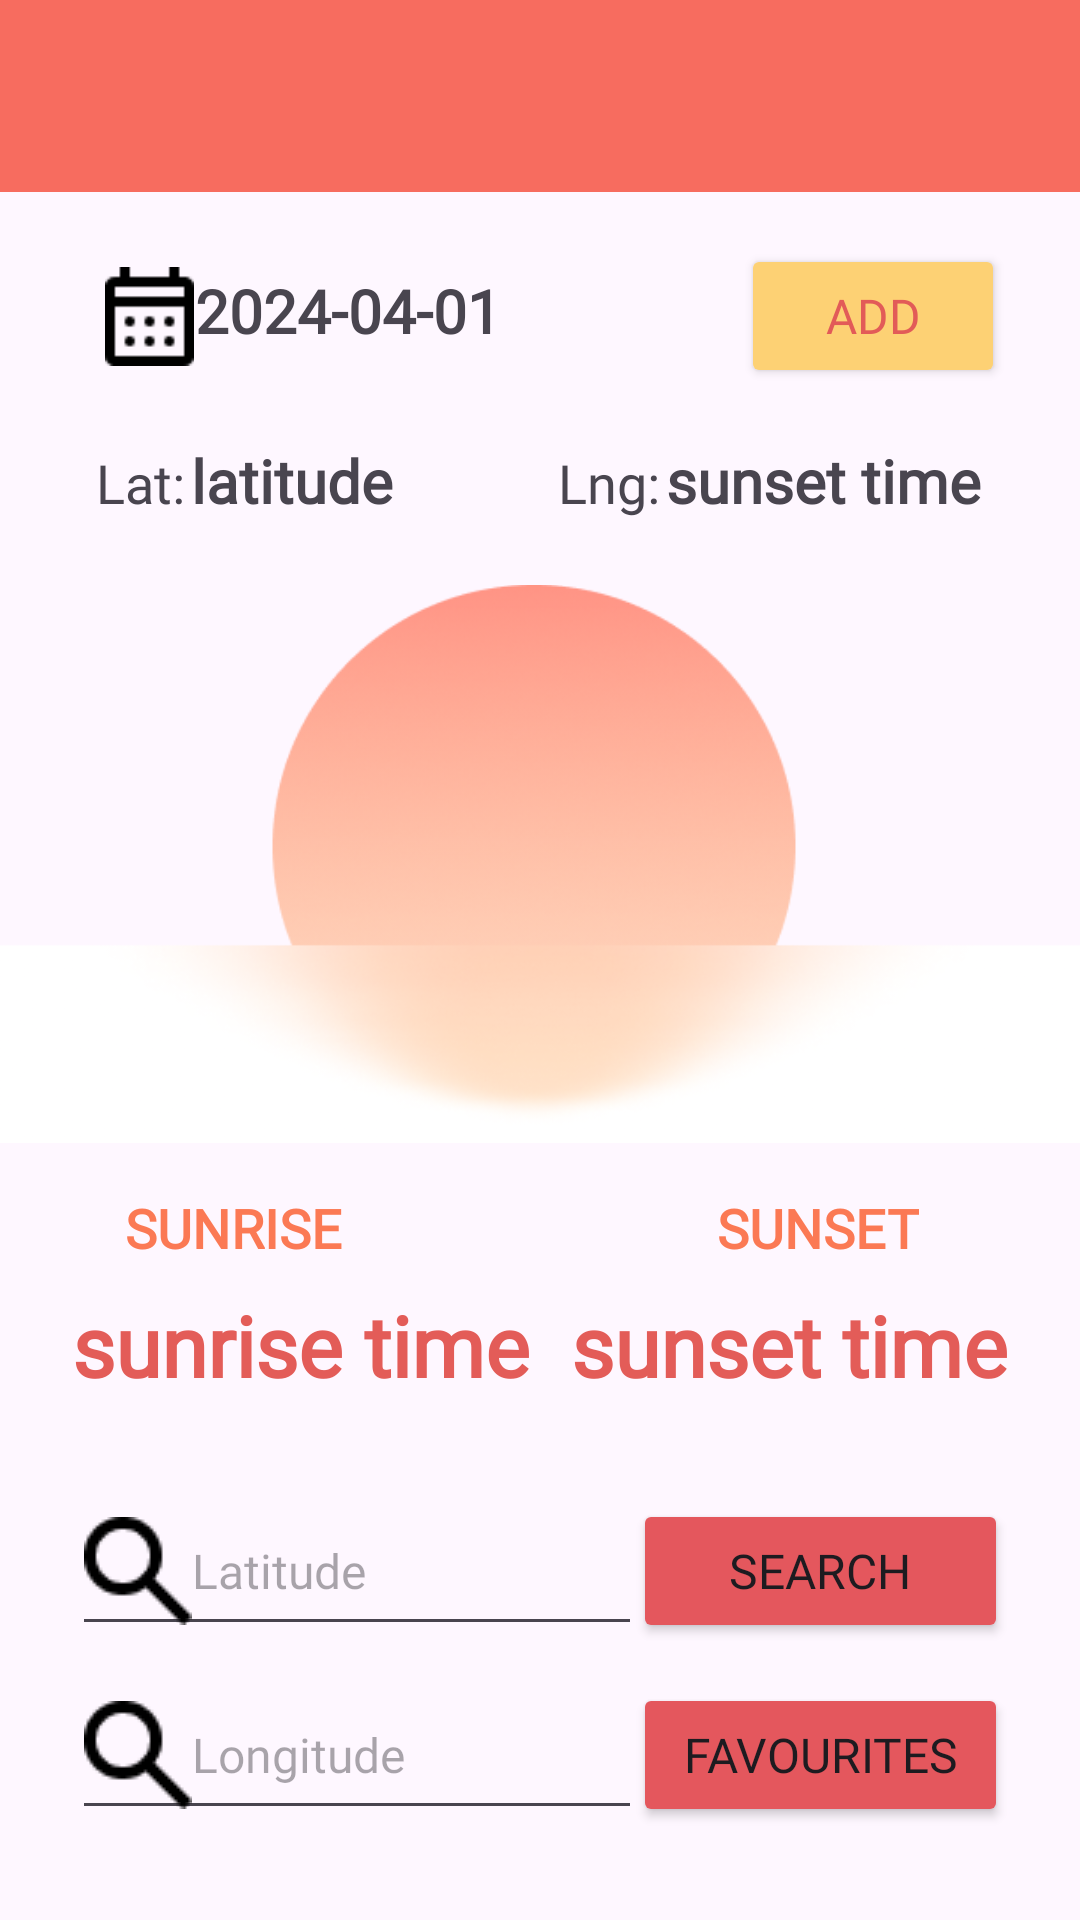

Icons on this 1080px x 1920px Android screen, each with the point to tap as point (x, y):
sun home date: point (149, 316)
